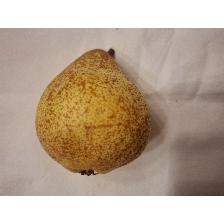Birne: (34, 47, 152, 176)
